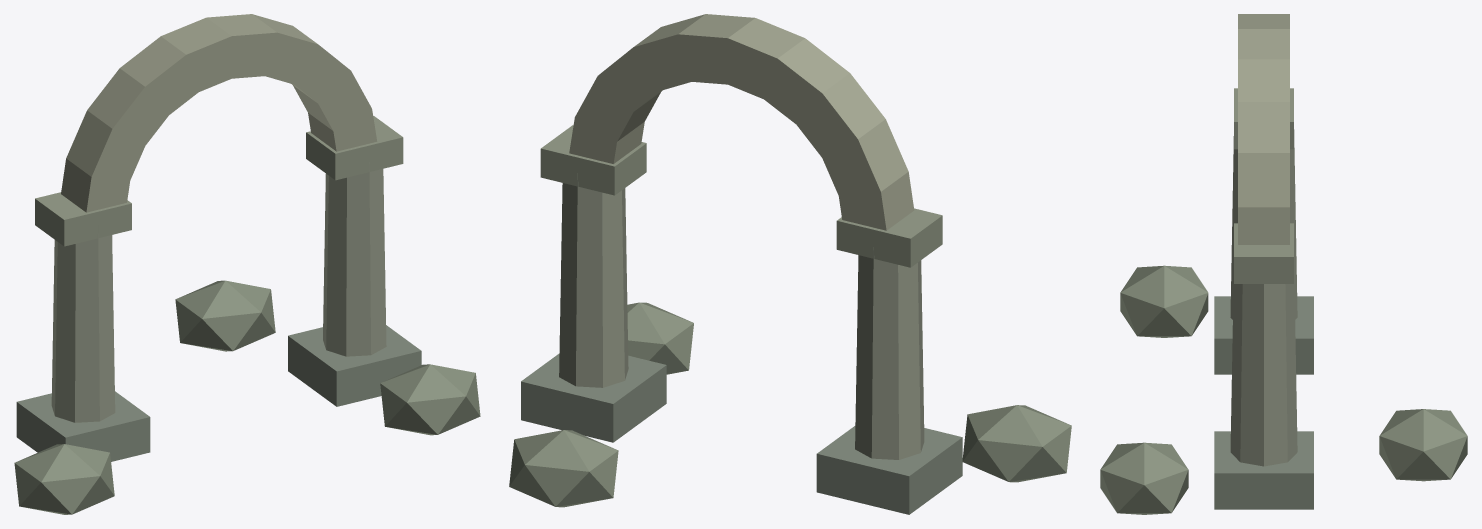
Rendered from ruins.glb.
3 renders of one model, left to right at view 1: azimuth 30°, elevation 25°; view 2: azimuth 150°, elevation 25°; view 3: azimuth 270°, elevation 25°, orthographic. The views are drawn at different scales.
Visible parts, largest first — view 1: ruins; view 2: ruins; view 3: ruins.
Part boxes in pixels (x1=…): ruins: x1=14, y1=14, x2=480, y2=514; ruins: x1=509, y1=14, x2=1071, y2=514; ruins: x1=1100, y1=14, x2=1467, y2=514.
Bounding box in the file's own units: 26.37 × 22.7 × 18.42.
